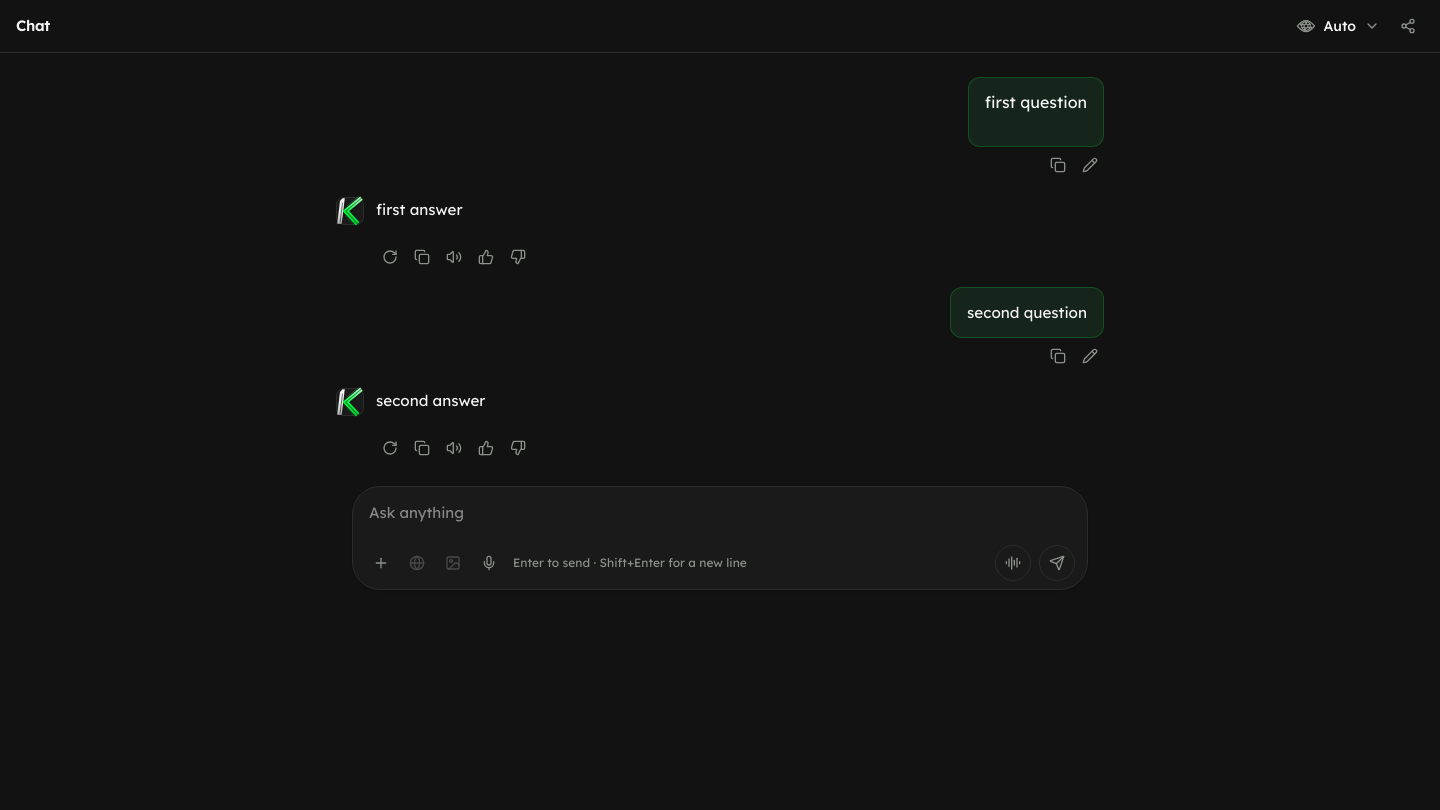
Scenario: ChatPage message editing › never starts the new answer pre-filled with a previous reply
Check: the text "second question" is shown, box [967,300,1087,325]
Click the button named "Edit message" below "second question" at (1090, 356), box [1076,342,1104,370]
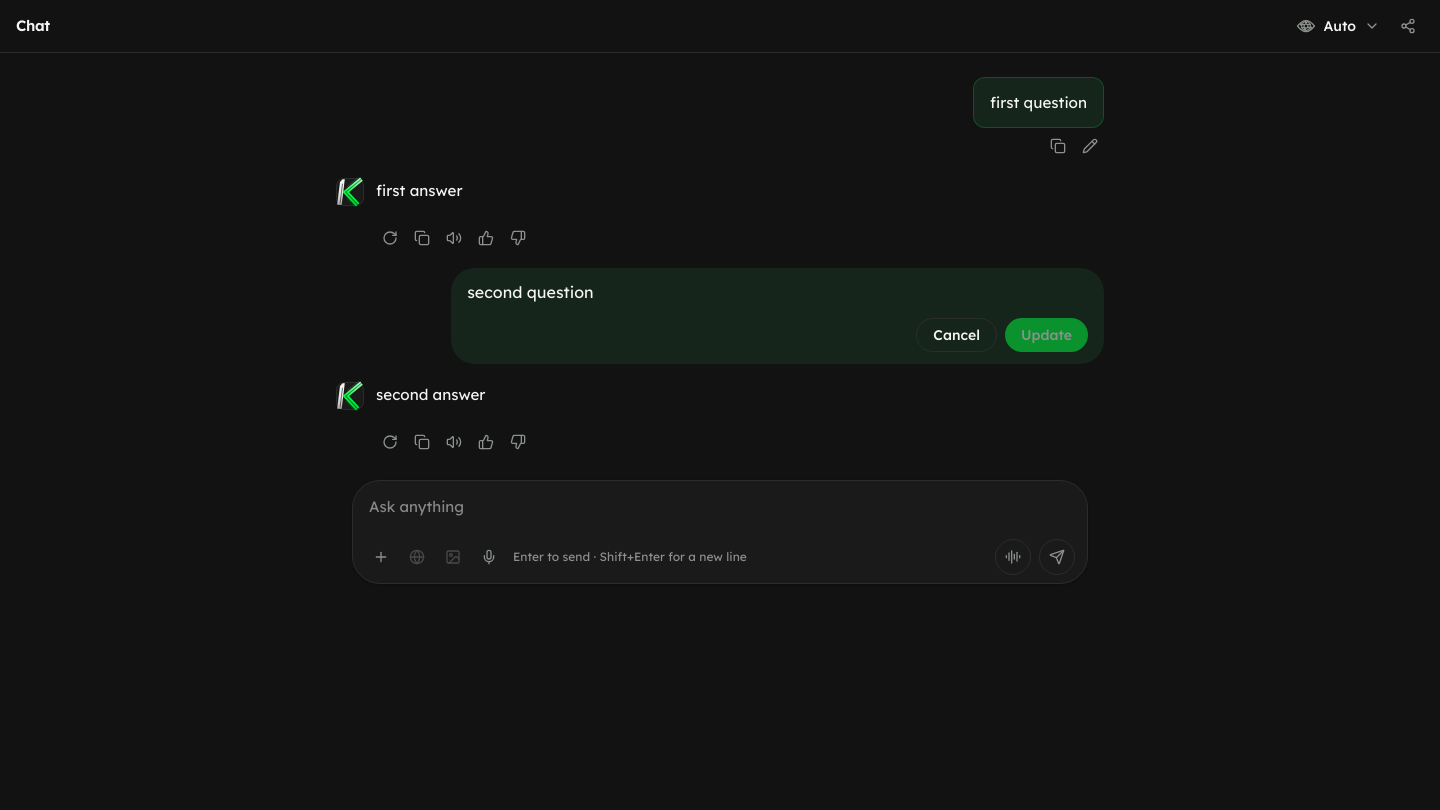
Replace the text in the text box named "Edit your message" with "edited question" at (778, 292), box [467,280,1088,304]
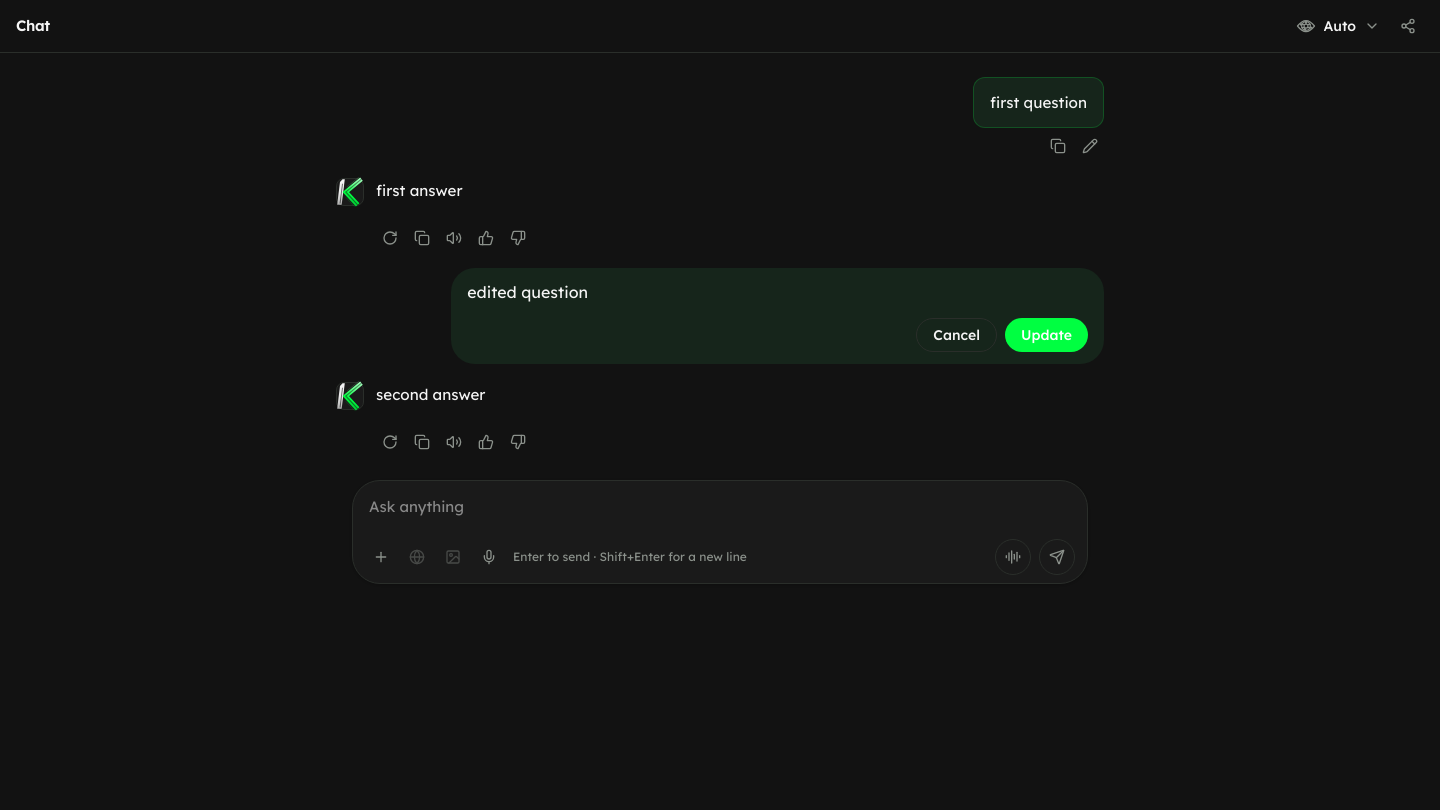
Click the button "Update" at (1046, 335), box [1005,318,1088,352]
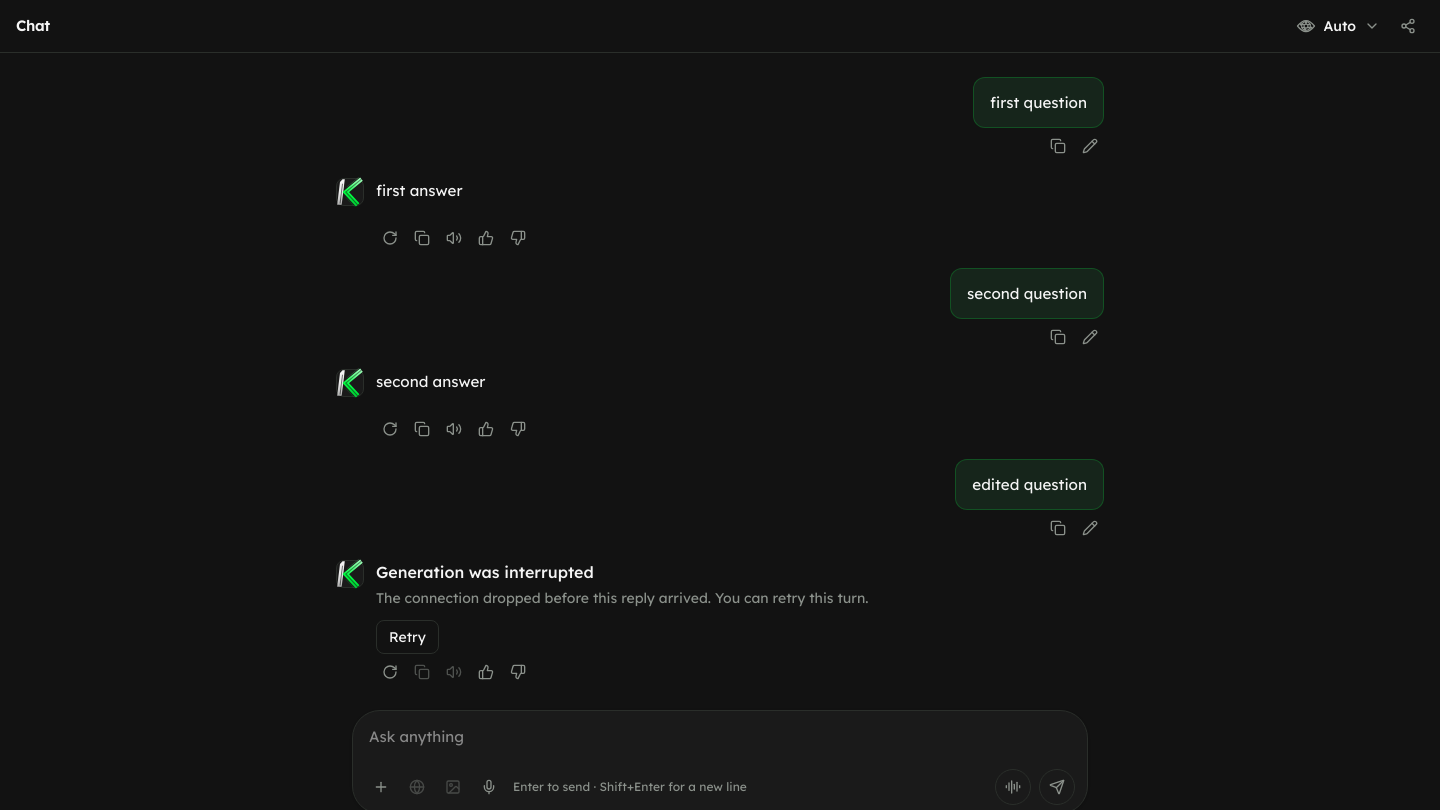
Check: the text "first answer" is shown once, box [376,181,462,200]
Check: the text "Generation was interrupted" is shown, box [376,562,594,582]
Check: the text "second answer" is shown once, box [376,372,485,391]
